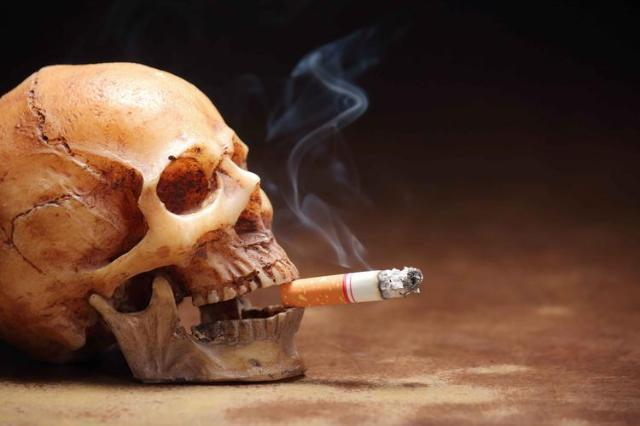Smoking: (279, 267, 423, 309)
